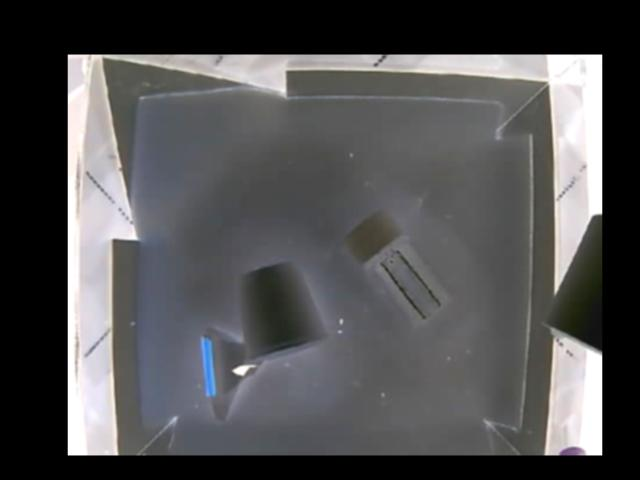Bottle: (345, 211, 453, 327)
China: (202, 332, 263, 419)
Cup: (238, 259, 329, 363)
